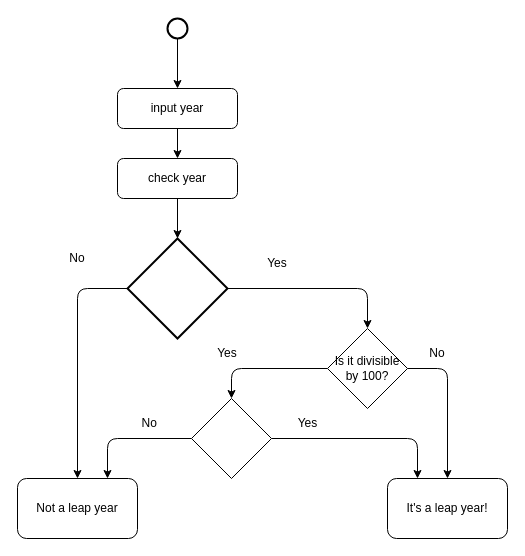
Some shapes in this 525 by 556 pixel diagram are drawn without their labels. The shapes that lost their labels are listed below. From the top down, each one's centre as x and y in pixels, then its label:
(177,288): Is year divisible by four?
(231,438): Is it divisble by 400?
